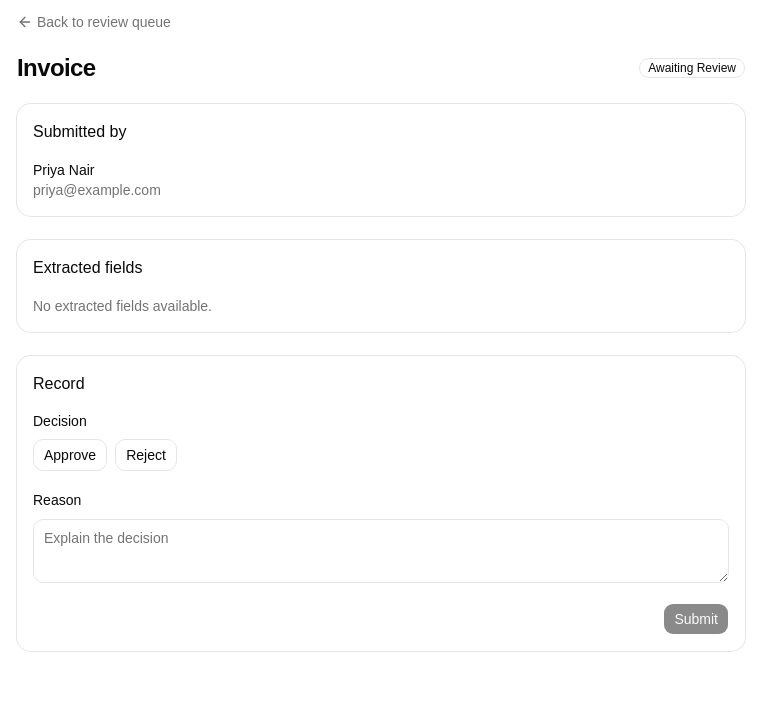
Test: DecisionForm submission › should show a distinct message when the invoice is no longer awaiting review
Click the button "Approve": (70, 455) [33,439,107,471]
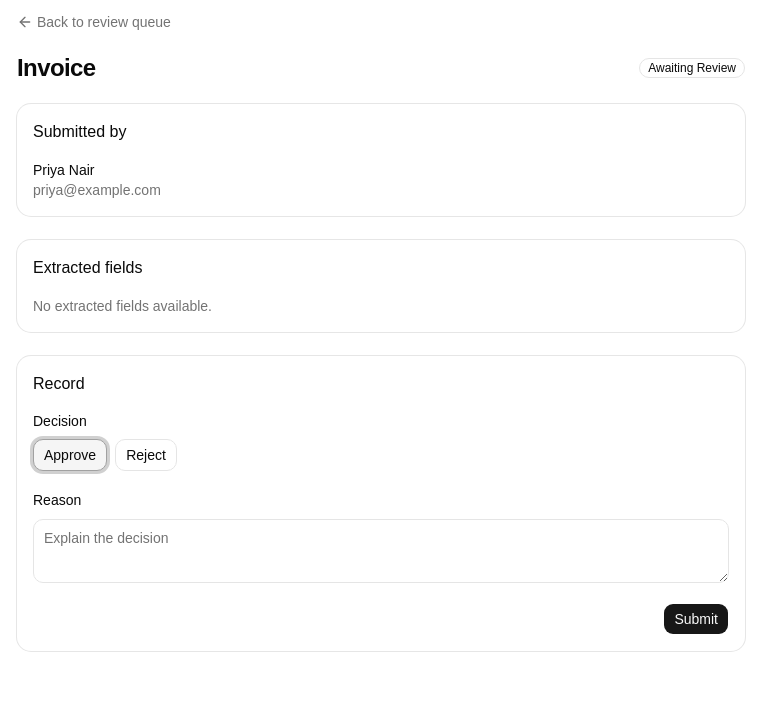
In the text box labelled "Reason": (381, 550) [33,518,729,582], type "Looks fine"
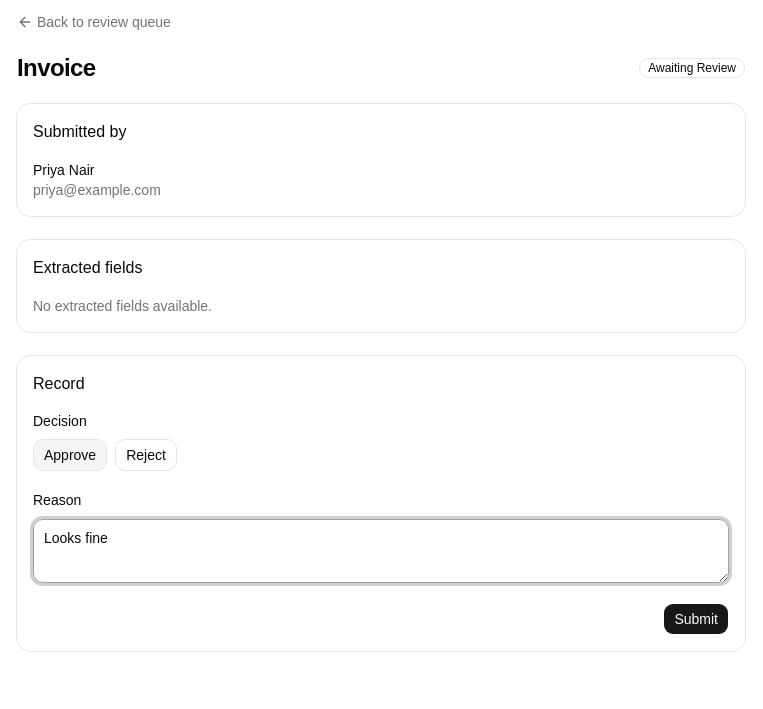
Click the button "Submit": (696, 618) [663,602,729,634]
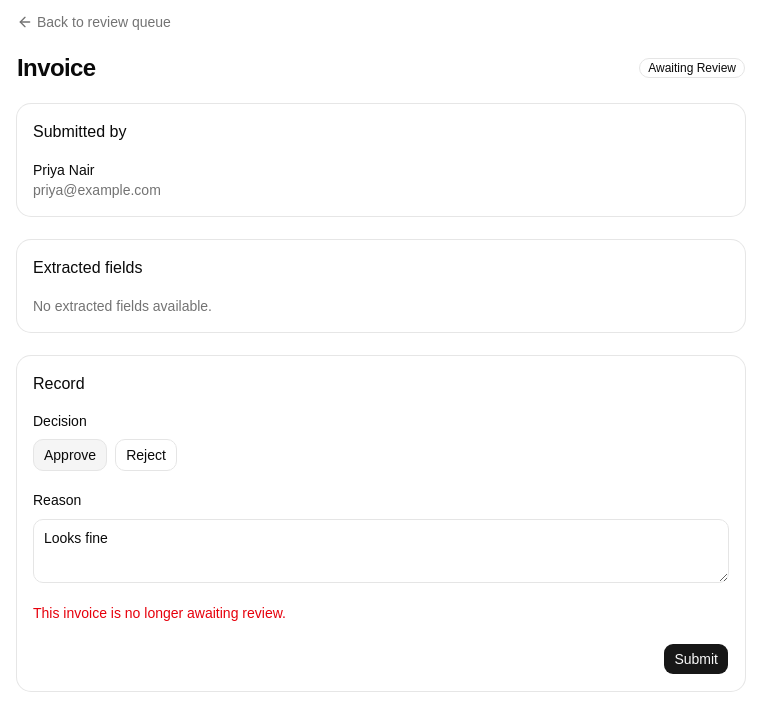
Result: the message shows "no longer awaiting review" at [33,604,286,620]
